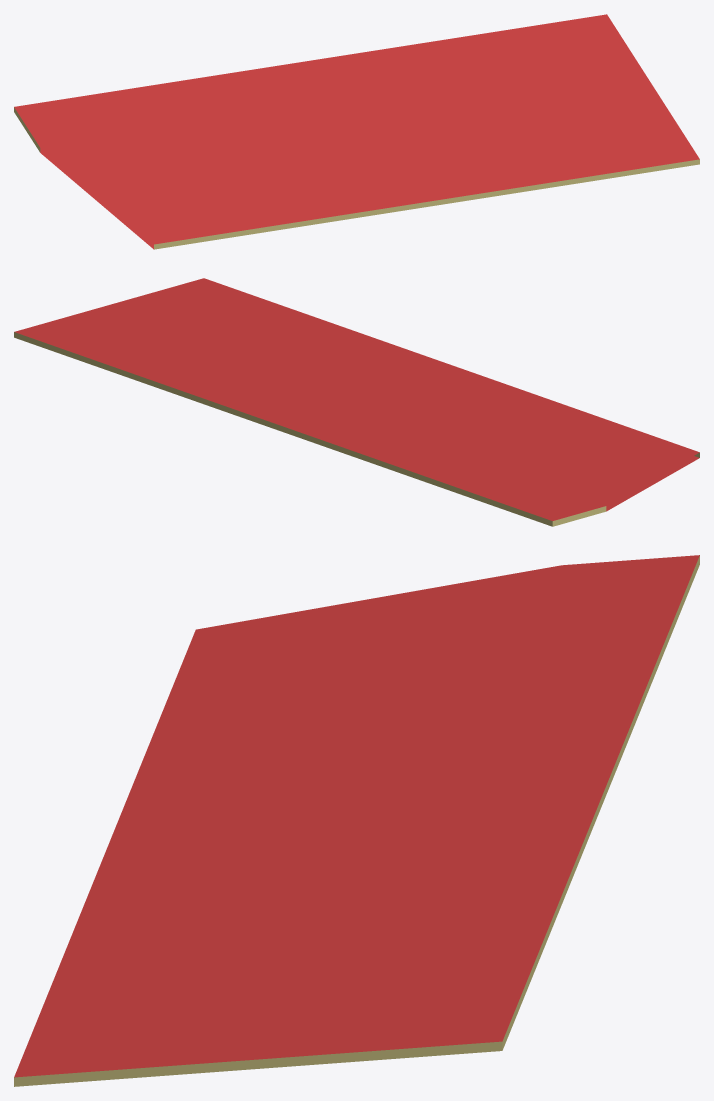
3 renders of one model, top to bottom at view 1: azimuth 30°, elevation 25°; view 2: azimuth 150°, elevation 25°; view 3: azimuth 270°, elevation 25°, orthographic. The views are drawn at different scales.
Bounding box in the file's own units: 11.3 × 6.6 × 0.857.
